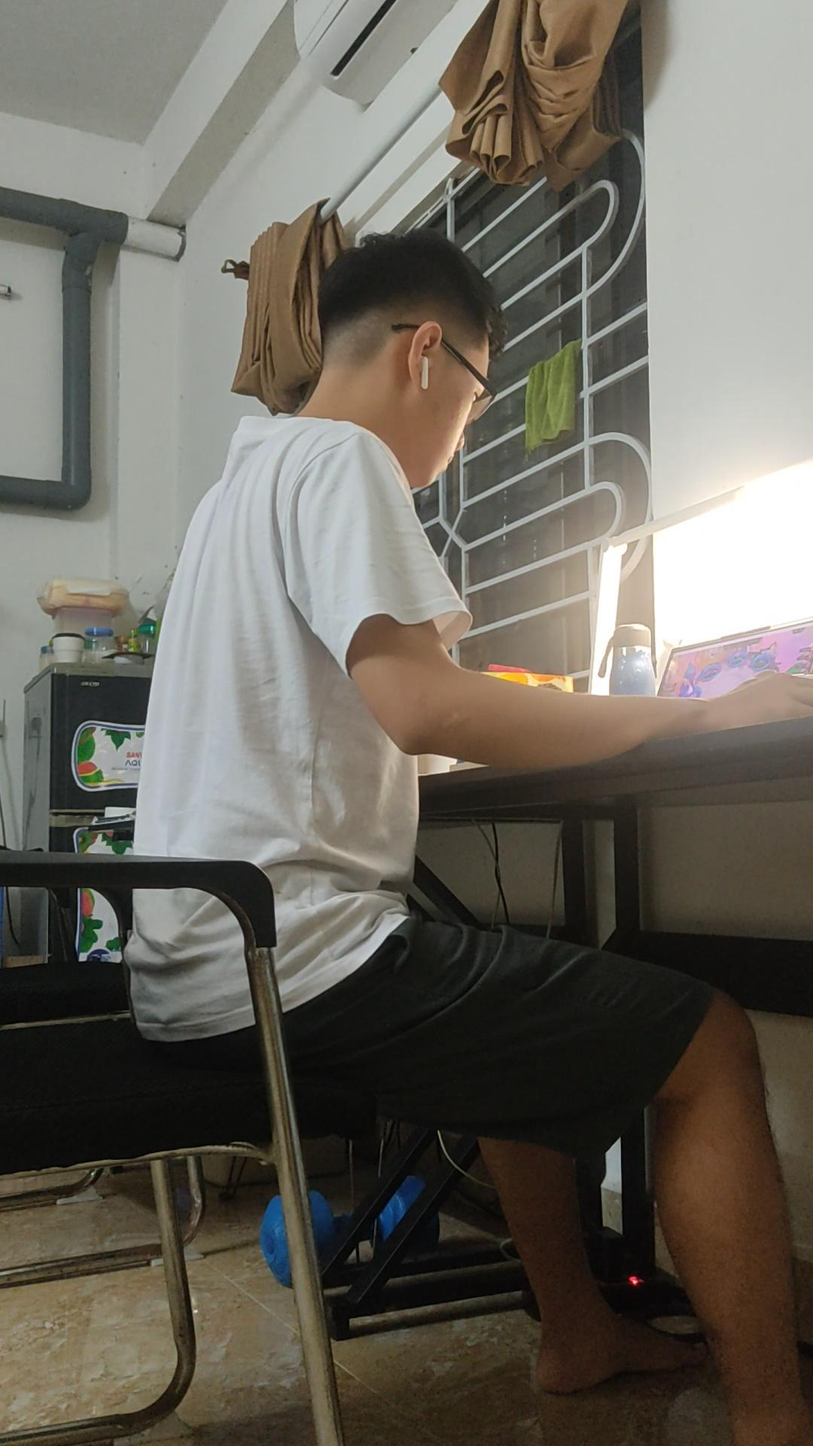GoodPosture: (136, 233, 812, 1445)
